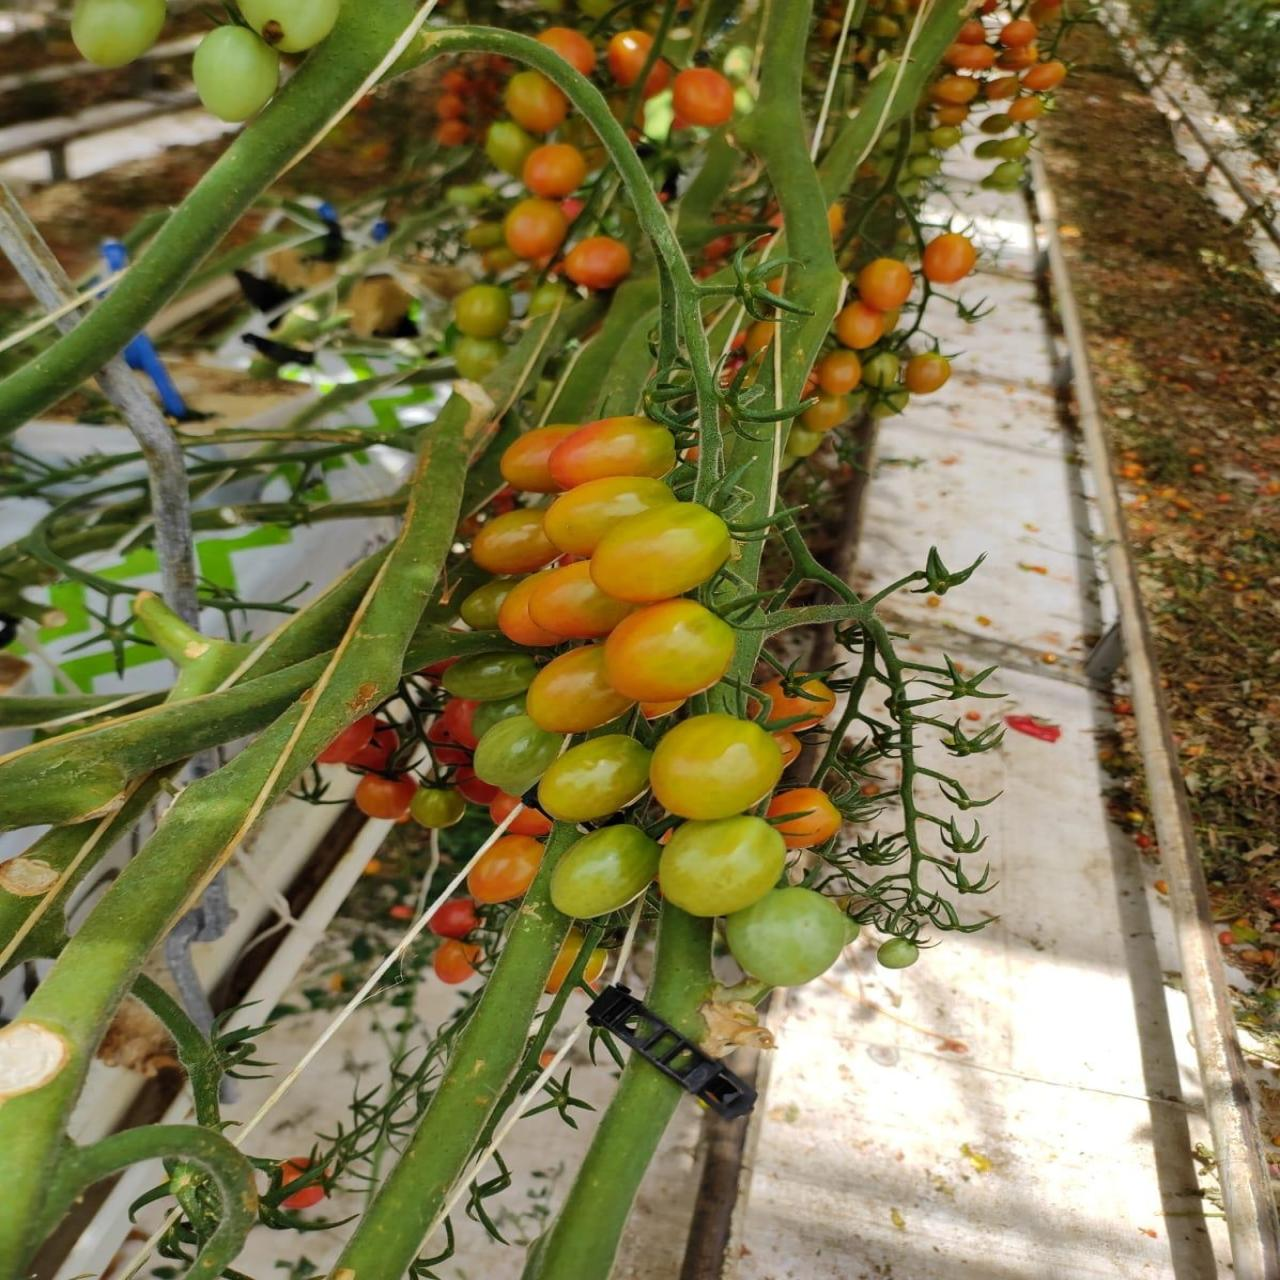T_F_R: (649, 714, 783, 821), (592, 504, 733, 604), (606, 599, 736, 704), (659, 816, 787, 919), (726, 888, 846, 989), (552, 826, 663, 921), (546, 479, 676, 559), (539, 736, 653, 824), (526, 646, 636, 734), (549, 416, 676, 491), (529, 561, 639, 639), (476, 716, 566, 796), (472, 509, 561, 576), (442, 654, 539, 701)
T_S_R: (1, 392, 499, 1280), (339, 829, 576, 1280)
